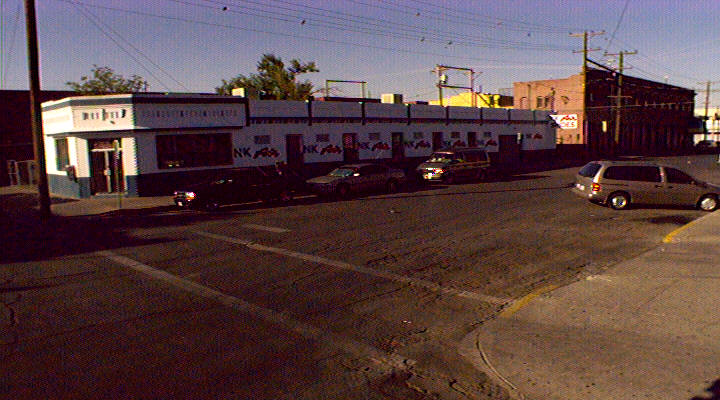Ramp: (462, 296, 616, 400)
